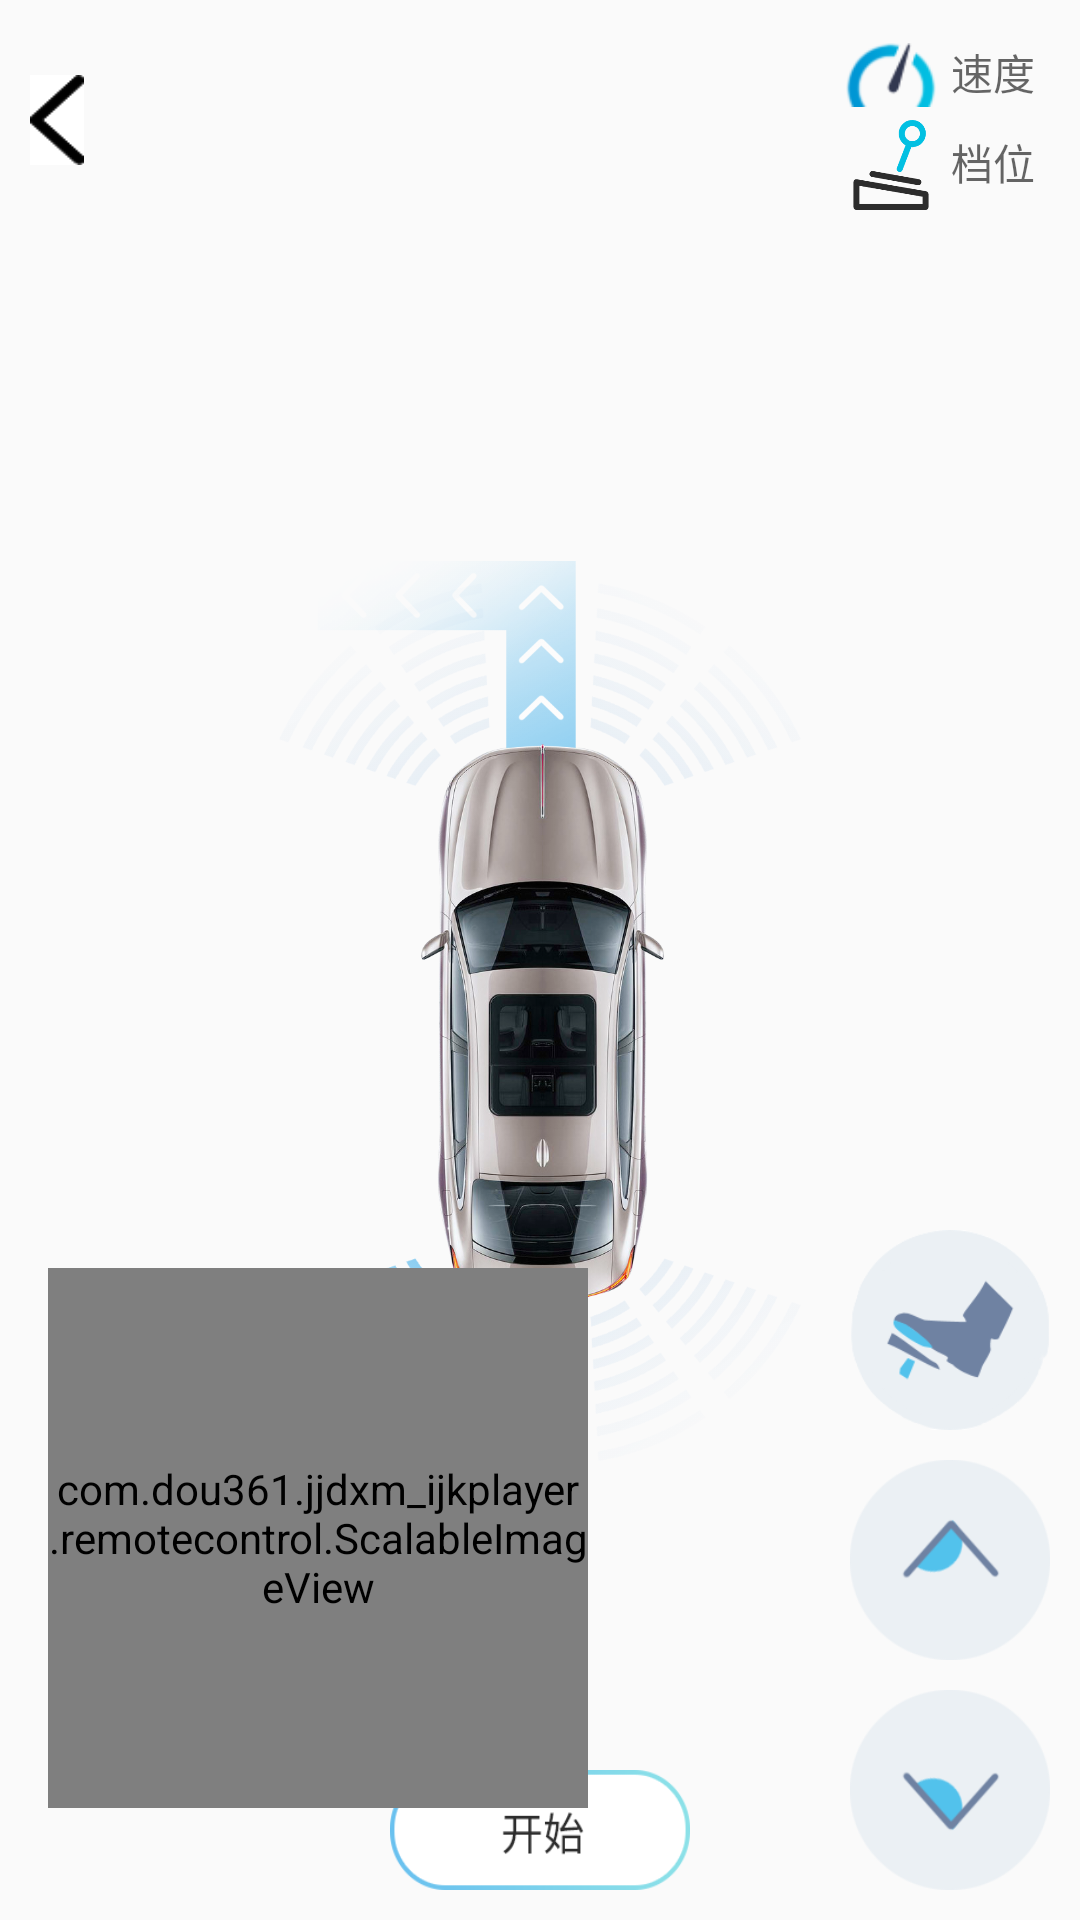

Named icons in this screenshot (1080×1920) and their bounding boxes, detection(x1, y1, x2, y2):
backward: detection(850, 1690, 1050, 1890)
brake: detection(851, 1230, 1049, 1430)
forward: detection(850, 1460, 1050, 1660)
return bar: detection(30, 75, 84, 165)
